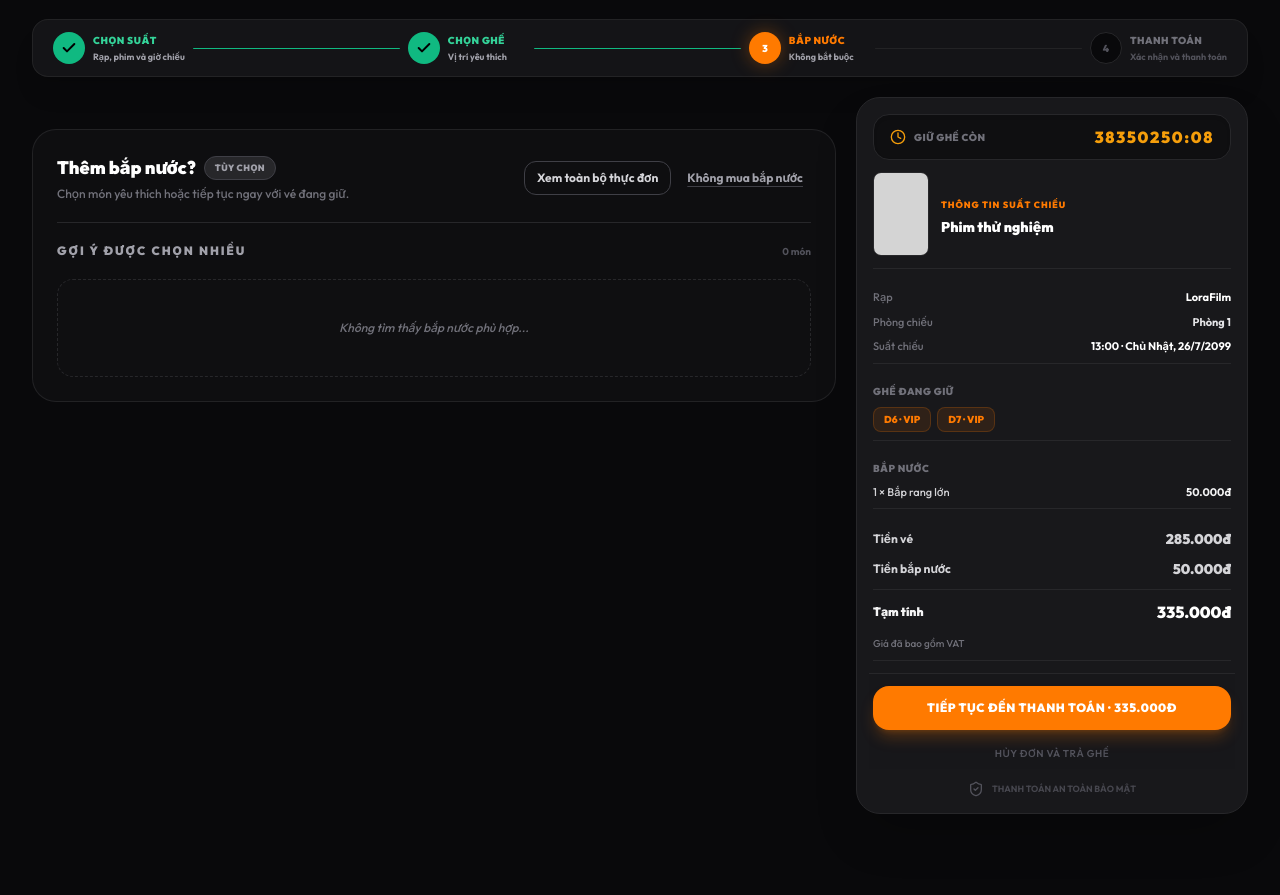
BookingCheckoutPage cancellation › applies AUTO in preview without exposing it as a selectable voucher
Click the button "Tiếp tục đến thanh toán · 335.000đ": point(1052, 708) x1=873 y1=686 x2=1231 y2=730
(page scrolled)
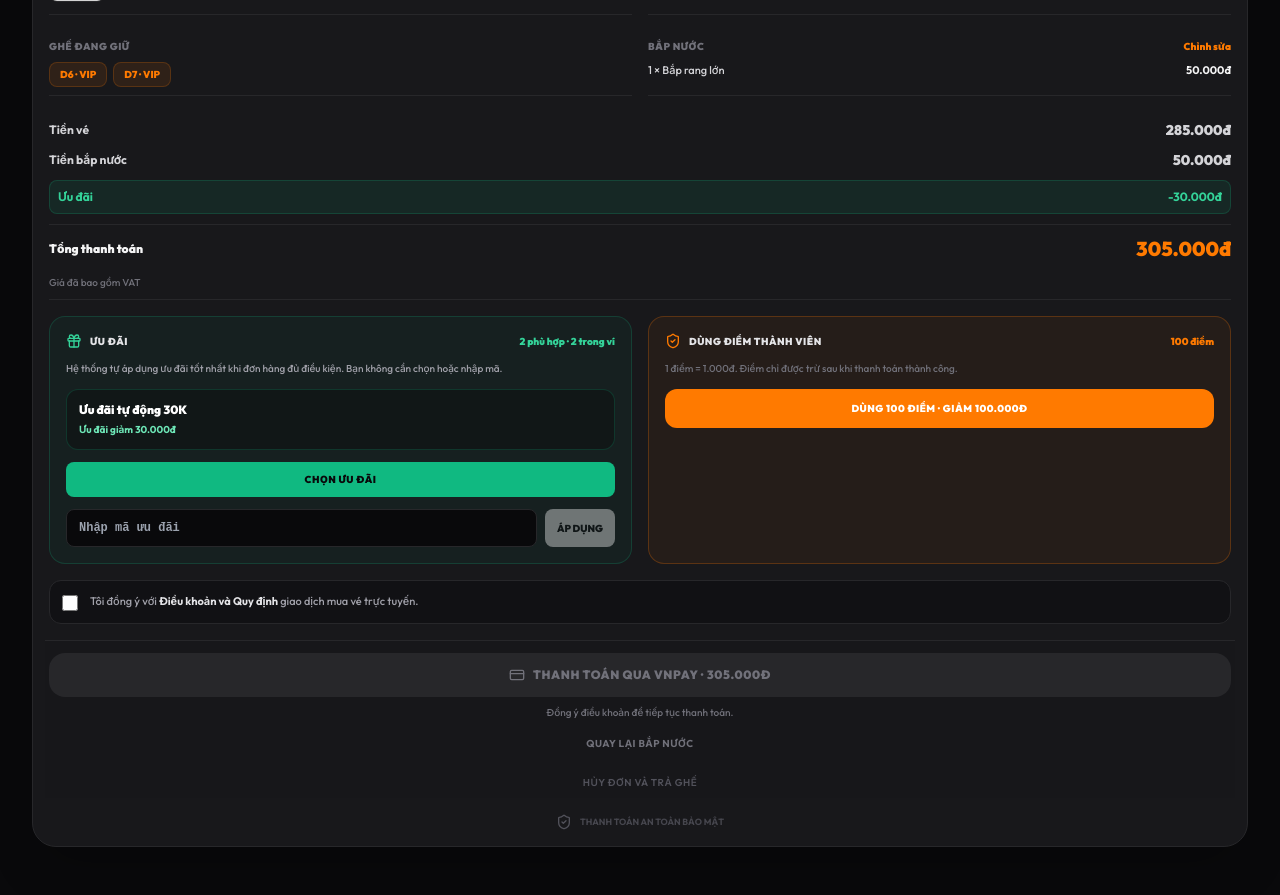
Check: the text "Ưu đãi tự động 30K" is shown, box x1=79 y1=402 x2=187 y2=417
Click the button "Chọn ưu đãi": point(340, 480) x1=66 y1=462 x2=615 y2=497
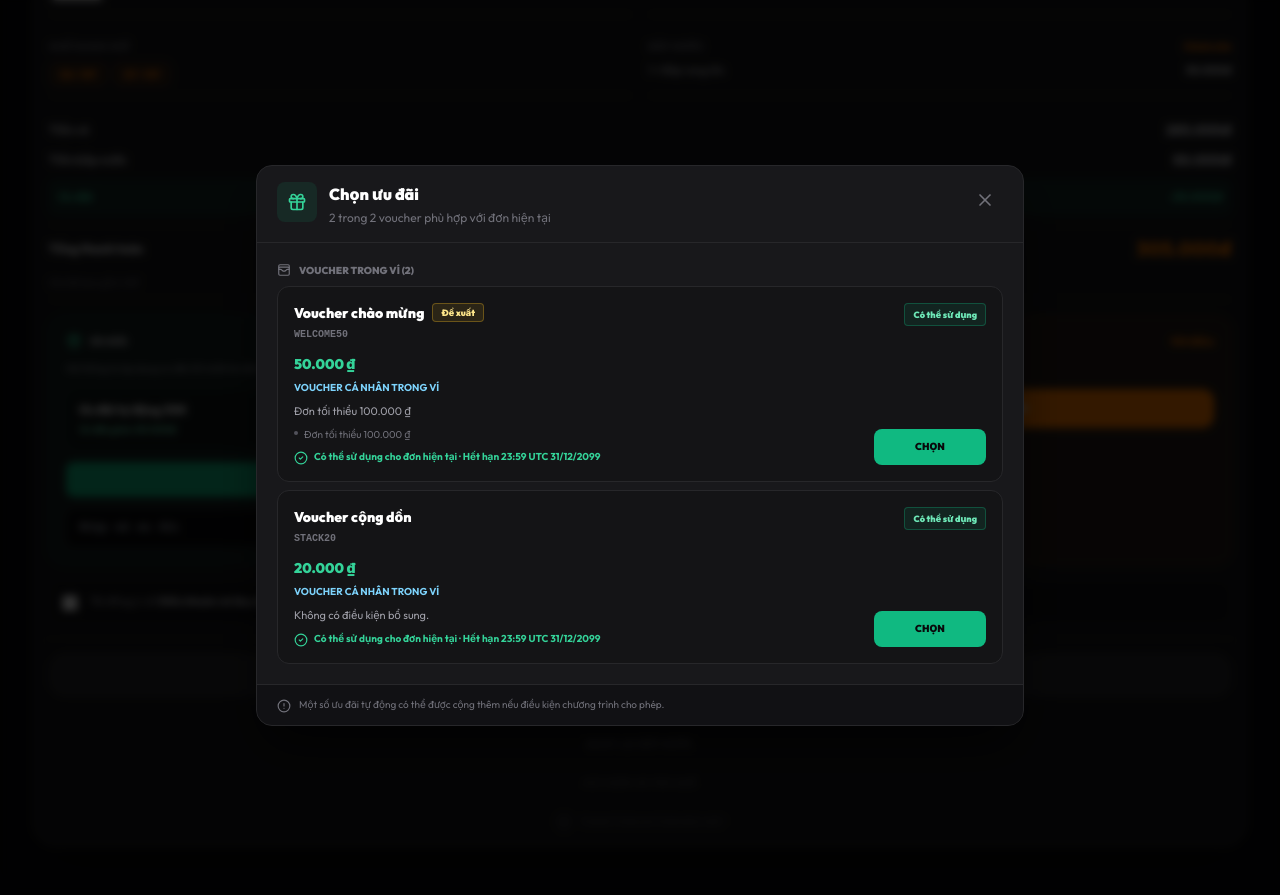
Check: the heading "Voucher chào mừng" is shown, box x1=294 y1=302 x2=424 y2=322
Check: the text "Một số ưu đãi tự động có thể được cộng thêm" is shown, box x1=299 y1=698 x2=664 y2=710
